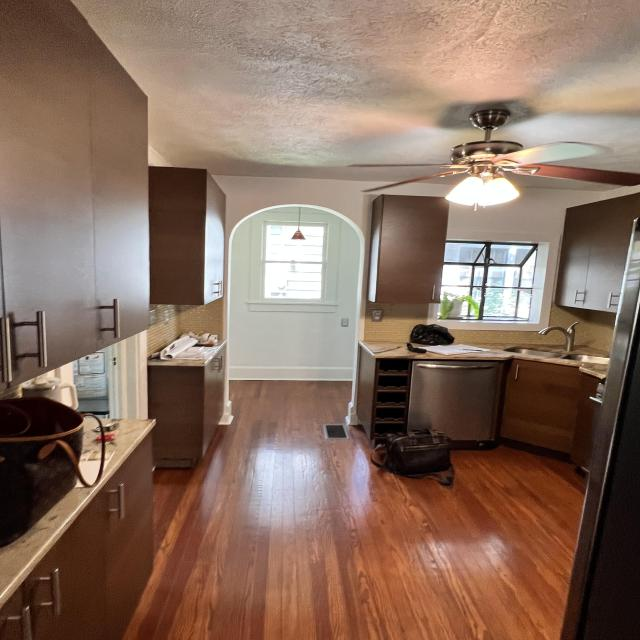Appliance_Dishwasher: (408, 359, 508, 449)
Appliance_Fridge: (561, 218, 640, 640)
Appliance_Sink: (504, 322, 577, 358)
Cabinet_Flat: (0, 0, 149, 387), (0, 439, 152, 640), (501, 359, 606, 471), (556, 192, 640, 314), (371, 197, 451, 306), (204, 172, 227, 305), (203, 344, 224, 455)
Countertop_Marble: (0, 418, 157, 610), (362, 342, 608, 379), (152, 346, 222, 366)
